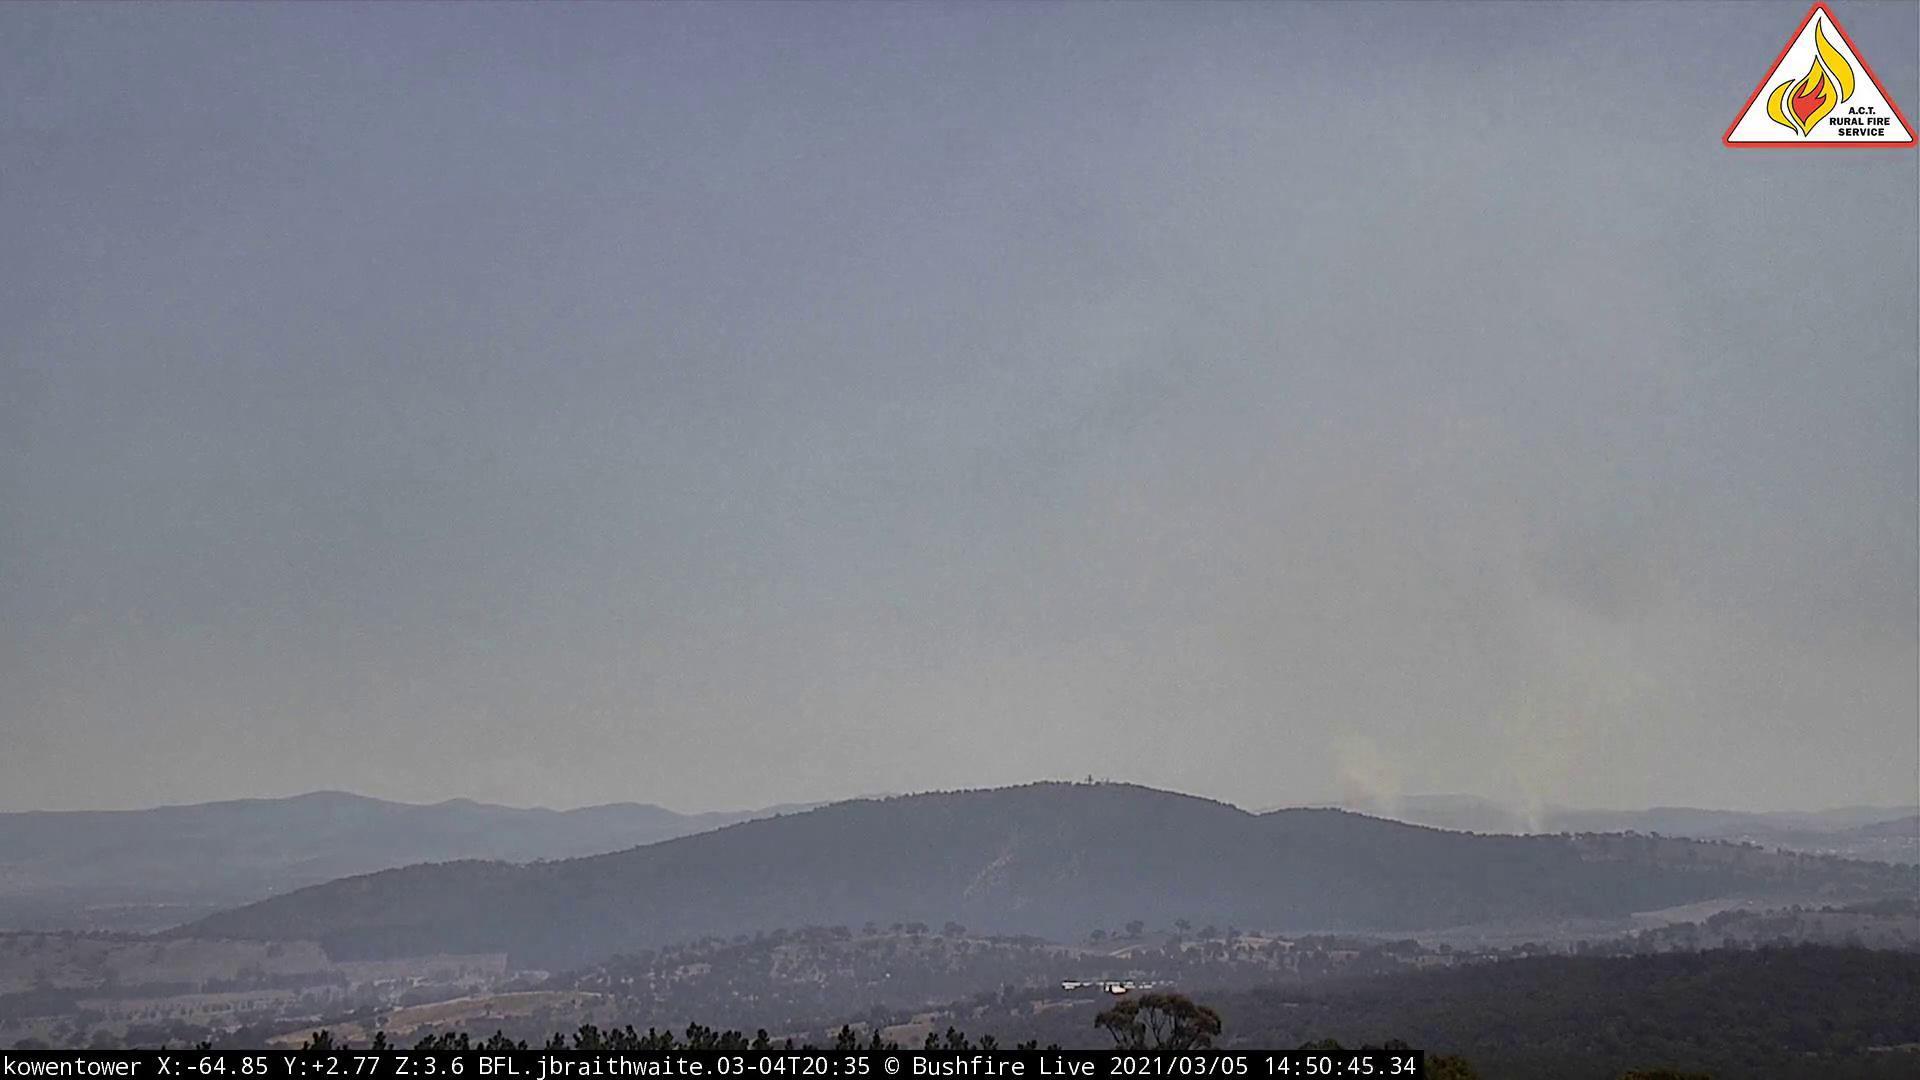Smoke: (1022, 425, 1815, 844)
